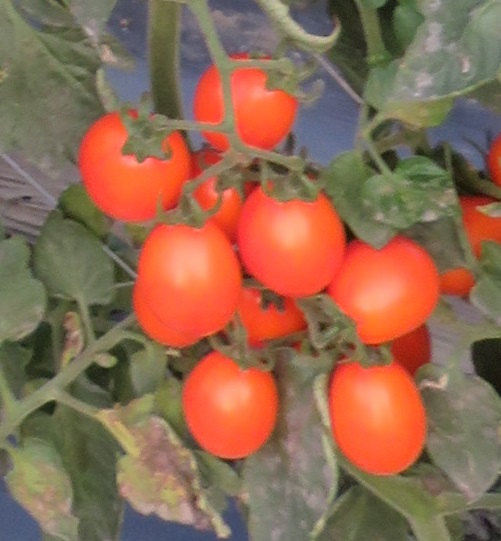orange: (318, 228, 449, 346), (75, 104, 196, 221), (143, 202, 237, 343), (238, 172, 345, 295), (328, 357, 428, 479), (183, 350, 282, 460), (196, 54, 299, 153)
